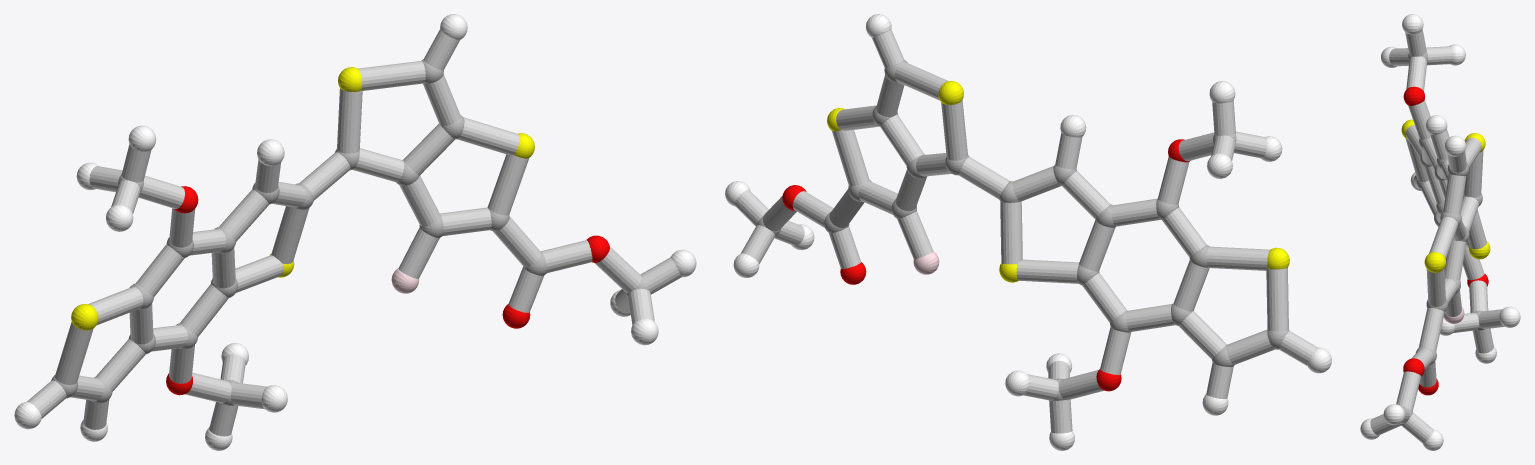
The model's file is color.glb.
3 views of the same model, side by side, from view 1: azimuth 30°, elevation 25°; view 2: azimuth 150°, elevation 25°; view 3: azimuth 270°, elevation 25° (orthographic). The views are drawn at different scales.
Parts seen in each view (by area): view 1: grp15205, grp8689, grp1, grp7241, grp13395; view 2: grp15205, grp8689, grp1, grp7241, grp13395; view 3: grp15205, grp8689, grp1, grp13395, grp7241.
Part boxes in pixels (<box>): grp15205: <box>27,29,681,436</box>; grp8689: <box>14,14,696,450</box>; grp1: <box>51,59,648,405</box>; grp7241: <box>71,67,534,330</box>; grp13395: <box>166,186,609,395</box>; grp15205: <box>734,29,1317,433</box>; grp8689: <box>725,14,1331,450</box>; grp1: <box>757,60,1289,400</box>; grp7241: <box>827,81,1289,282</box>; grp13395: <box>782,139,1190,391</box>; grp15205: <box>1370,29,1504,443</box>; grp8689: <box>1360,14,1520,450</box>; grp1: <box>1398,51,1484,425</box>; grp13395: <box>1403,86,1488,395</box>; grp7241: <box>1401,119,1490,272</box>.
Size of the model in its own units: 16.55 by 9.48 by 4.47.
